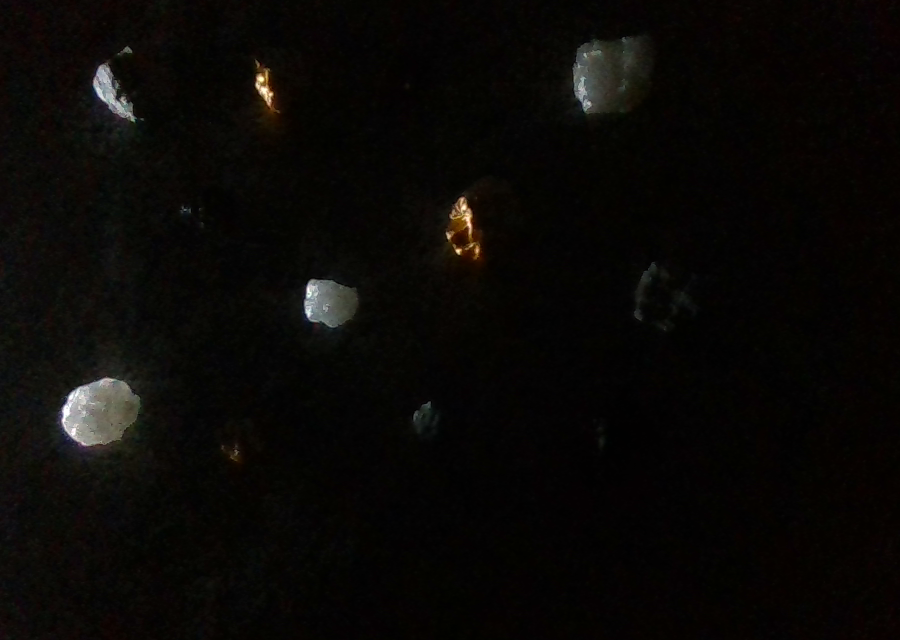anorthosite: (572, 30, 657, 115), (61, 377, 142, 447), (304, 278, 360, 328)
basalt: (572, 399, 663, 486), (178, 183, 239, 237), (385, 52, 431, 93)
metal: (444, 174, 528, 262), (247, 44, 313, 115), (214, 417, 265, 469)
regolith: (90, 40, 180, 124), (634, 258, 720, 334), (412, 398, 454, 445)
